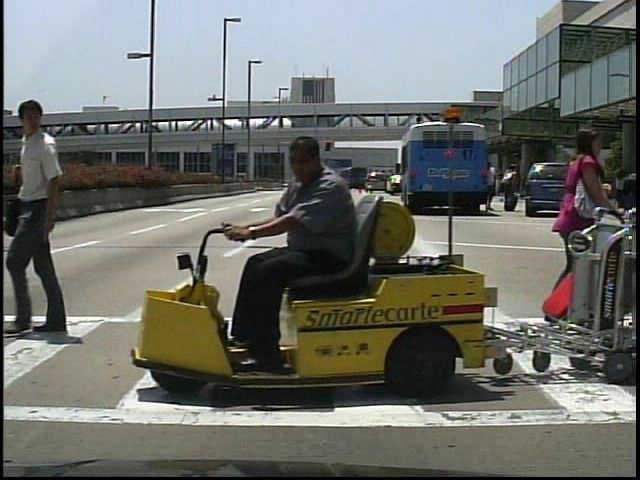person: (228, 134, 366, 373), (14, 100, 90, 336), (546, 121, 610, 354), (580, 163, 601, 214), (480, 162, 500, 215), (502, 163, 521, 218)
